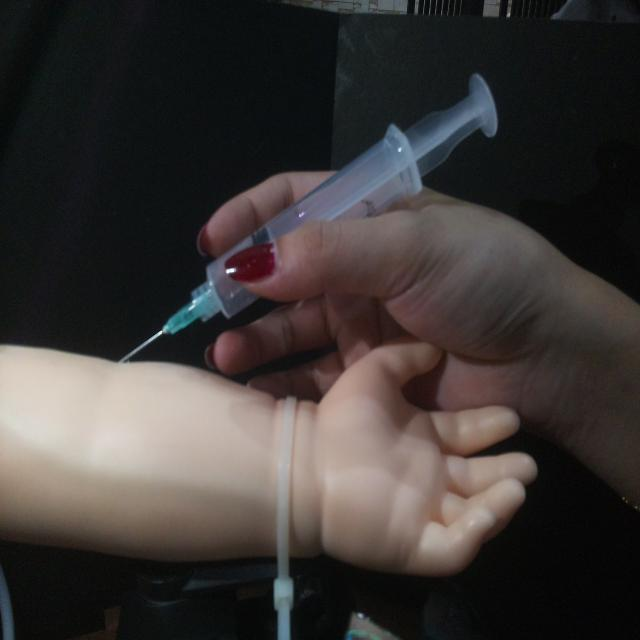30deg: (113, 68, 502, 366)
